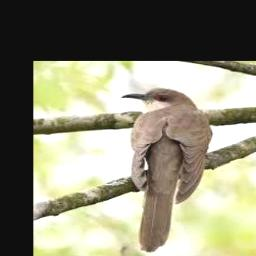Cuckoo: (122, 88, 212, 252)
